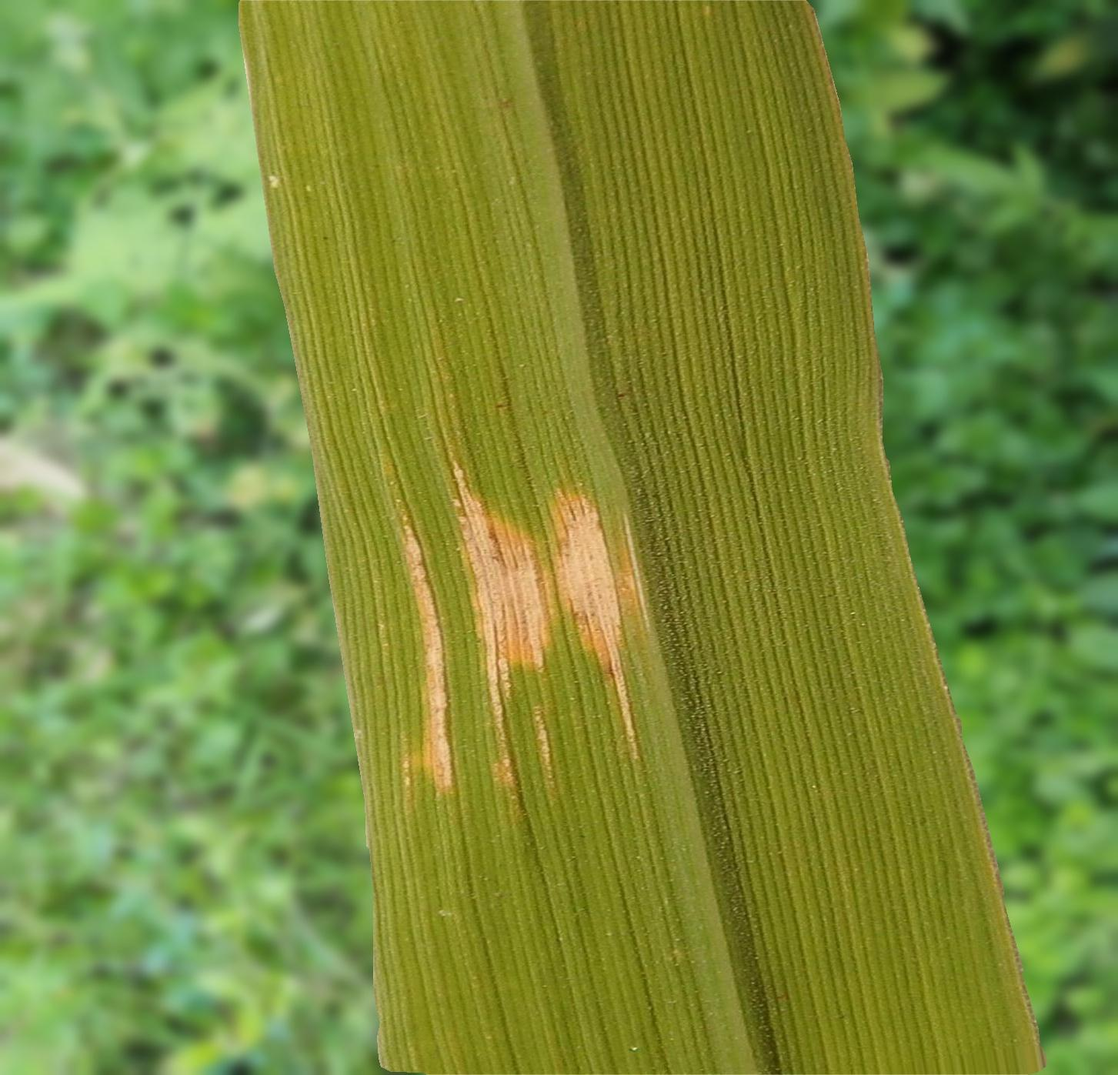BLS: (454, 463, 552, 786), (553, 490, 651, 754), (402, 516, 452, 793), (533, 706, 554, 786)
LEAF: (239, 0, 1046, 1074)
